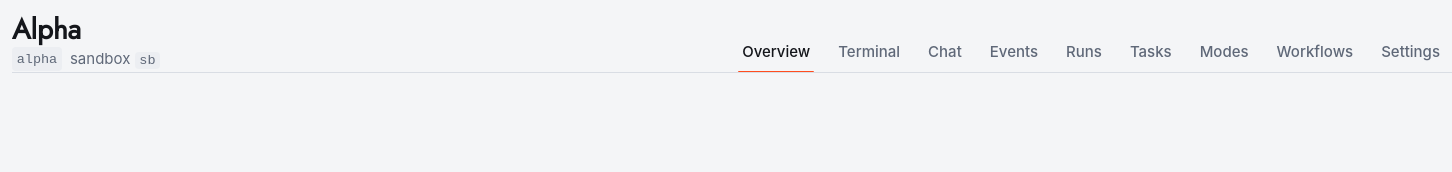
Test: ProjectHeader › shows the name tooltip on hover
This screenshot has width=1452, height=172.
Hover over the text "alpha".
mouse_move(37, 59)  # box [12,47,62,72]
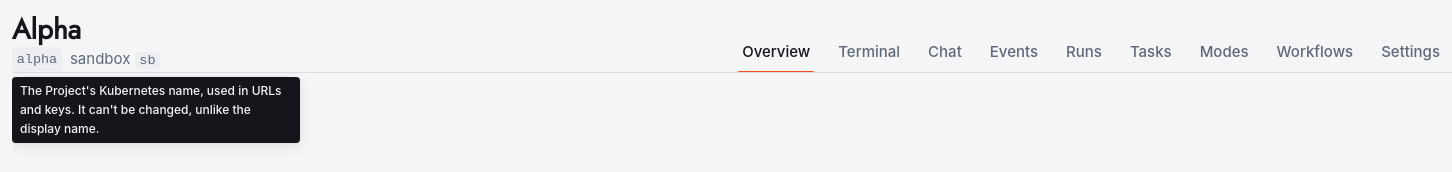
Expected: the tooltip shows "Kubernetes name, used in URLs and keys", [20,83,282,136]
